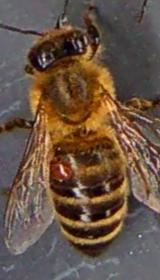varroa_mite: (49, 158, 75, 186)
